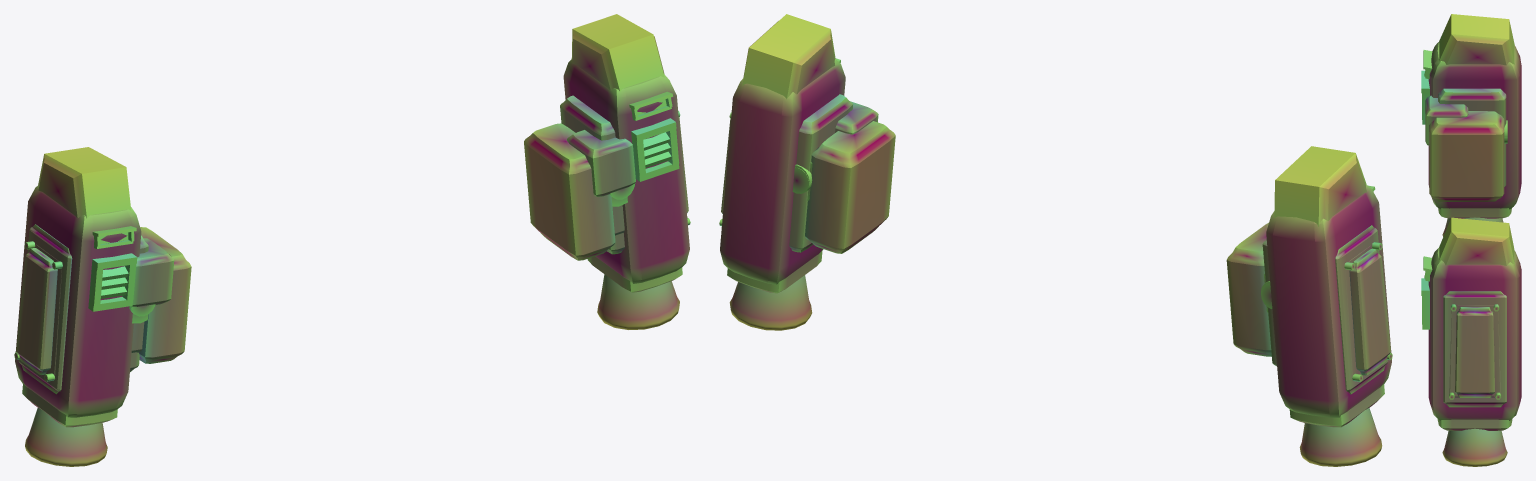
The model's file is llm_gen_leg_thrusters_081_15c6a8.glb.
The picture shows the model from 3 angles, left to right: view 1: azimuth 30°, elevation 25°; view 2: azimuth 150°, elevation 25°; view 3: azimuth 270°, elevation 25°; orthographic projection. The views are drawn at different scales.
Parts seen in each view (by area): view 1: calf_thruster_hull_1_wing_white_l, calf_thruster_hull_1_wing_white_r, adapter_calf_clamp_r, nacelle_upper_cowl_2_psycho_emerald_r, nacelle_upper_cowl_2_psycho_emerald_l, nacelle_flank_armor_6_psycho_emerald_l, adapter_calf_clamp_l, calf_main_bell_8_vernier_bell_vernier_l, calf_main_bell_8_vernier_bell_vernier_r, adapter_leg_knee_mount_dark_9_adapter_dark_r, adapter_sub_flank_frame_dark_5_adapter_dark_l, adapter_leg_knee_mount_dark_9_adapter_dark_l (+7 smaller); view 2: calf_thruster_hull_1_wing_white_l, calf_thruster_hull_1_wing_white_r, adapter_calf_clamp_r, nacelle_upper_cowl_2_psycho_emerald_r, nacelle_upper_cowl_2_psycho_emerald_l, nacelle_flank_armor_6_psycho_emerald_l, adapter_calf_clamp_l, calf_main_bell_8_vernier_bell_vernier_l, calf_main_bell_8_vernier_bell_vernier_r, adapter_sub_tank_cradle_dark_0_adapter_dark_r, adapter_sub_flank_frame_dark_5_adapter_dark_l, adapter_sub_nozzle_shroud_dark_7_adapter_dark_l (+2 smaller); view 3: calf_thruster_hull_1_wing_white_r, adapter_calf_clamp_l, calf_thruster_hull_1_wing_white_l, nacelle_flank_armor_6_psycho_emerald_r, nacelle_upper_cowl_2_psycho_emerald_l, nacelle_upper_cowl_2_psycho_emerald_r, adapter_sub_flank_frame_dark_5_adapter_dark_r, calf_main_bell_8_vernier_bell_vernier_r, adapter_sub_tank_cradle_dark_0_adapter_dark_l, adapter_leg_knee_mount_dark_9_adapter_dark_l, adapter_sub_nozzle_shroud_dark_7_adapter_dark_r, adapter_sub_nozzle_shroud_dark_7_adapter_dark_l (+5 smaller).
Part boxes in pixels (x1,y1,x2,y2): calf_thruster_hull_1_wing_white_l: [15, 185, 141, 417]; calf_thruster_hull_1_wing_white_r: [563, 58, 689, 283]; adapter_calf_clamp_r: [524, 123, 627, 260]; nacelle_upper_cowl_2_psycho_emerald_r: [571, 14, 664, 91]; nacelle_upper_cowl_2_psycho_emerald_l: [38, 147, 131, 218]; nacelle_flank_armor_6_psycho_emerald_l: [14, 241, 62, 381]; adapter_calf_clamp_l: [131, 227, 191, 363]; calf_main_bell_8_vernier_bell_vernier_l: [25, 407, 107, 466]; calf_main_bell_8_vernier_bell_vernier_r: [597, 274, 679, 329]; adapter_leg_knee_mount_dark_9_adapter_dark_r: [567, 130, 635, 196]; adapter_sub_flank_frame_dark_5_adapter_dark_l: [18, 224, 72, 394]; adapter_leg_knee_mount_dark_9_adapter_dark_l: [131, 238, 174, 306]; calf_thruster_hull_1_wing_white_l: [1266, 184, 1391, 417]; calf_thruster_hull_1_wing_white_r: [720, 59, 845, 284]; adapter_calf_clamp_r: [805, 121, 895, 253]; nacelle_upper_cowl_2_psycho_emerald_r: [742, 14, 835, 99]; nacelle_upper_cowl_2_psycho_emerald_l: [1274, 146, 1366, 226]; nacelle_flank_armor_6_psycho_emerald_l: [1344, 242, 1392, 381]; adapter_calf_clamp_l: [1226, 222, 1271, 356]; calf_main_bell_8_vernier_bell_vernier_l: [1299, 408, 1382, 466]; calf_main_bell_8_vernier_bell_vernier_r: [729, 275, 812, 330]; adapter_sub_tank_cradle_dark_0_adapter_dark_r: [789, 94, 852, 252]; adapter_sub_flank_frame_dark_5_adapter_dark_l: [1335, 225, 1388, 394]; adapter_sub_nozzle_shroud_dark_7_adapter_dark_l: [1289, 384, 1384, 427]; calf_thruster_hull_1_wing_white_r: [1428, 247, 1521, 420]; adapter_calf_clamp_l: [1429, 111, 1504, 201]; calf_thruster_hull_1_wing_white_l: [1428, 42, 1521, 209]; nacelle_flank_armor_6_psycho_emerald_r: [1449, 304, 1501, 399]; nacelle_upper_cowl_2_psycho_emerald_l: [1439, 14, 1514, 65]; nacelle_upper_cowl_2_psycho_emerald_r: [1438, 217, 1514, 265]; adapter_sub_flank_frame_dark_5_adapter_dark_r: [1443, 291, 1506, 407]; calf_main_bell_8_vernier_bell_vernier_r: [1442, 428, 1507, 466]; adapter_sub_tank_cradle_dark_0_adapter_dark_l: [1438, 88, 1506, 186]; adapter_leg_knee_mount_dark_9_adapter_dark_l: [1425, 95, 1468, 145]; adapter_sub_nozzle_shroud_dark_7_adapter_dark_r: [1437, 419, 1512, 430]; adapter_sub_nozzle_shroud_dark_7_adapter_dark_l: [1438, 208, 1511, 218].
Size of the model in its own units: 85.78 by 36.81 by 14.73.
